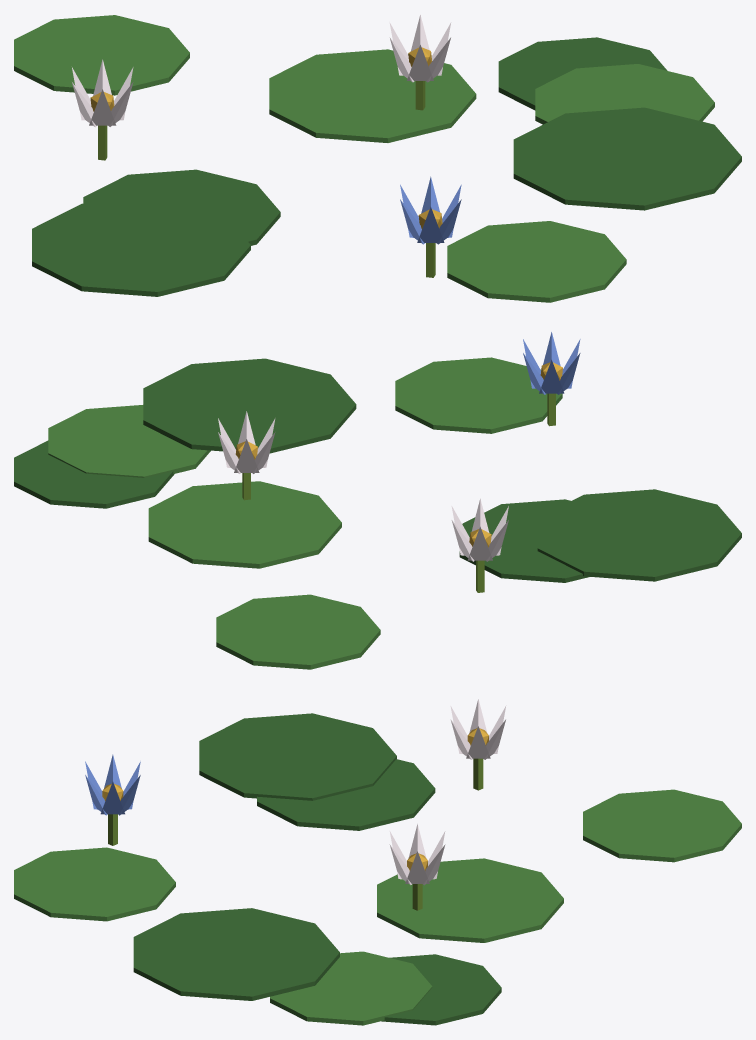
File: desert_lotus.glb
The picture shows the model from 3 angles, top to bottom: view 1: azimuth 30°, elevation 25°; view 2: azimuth 150°, elevation 25°; view 3: azimuth 270°, elevation 25°; orthographic projection. The views are drawn at different scales.
Parts seen in each view (by area): view 1: desert_lotus; view 2: desert_lotus; view 3: desert_lotus.
Part boxes in pixels (x1=…): desert_lotus: x1=14, y1=14, x2=741, y2=302; desert_lotus: x1=14, y1=332, x2=741, y2=669; desert_lotus: x1=14, y1=699, x2=741, y2=1025.
Size of the model in its own units: 2.9 by 0.368 by 2.93.
